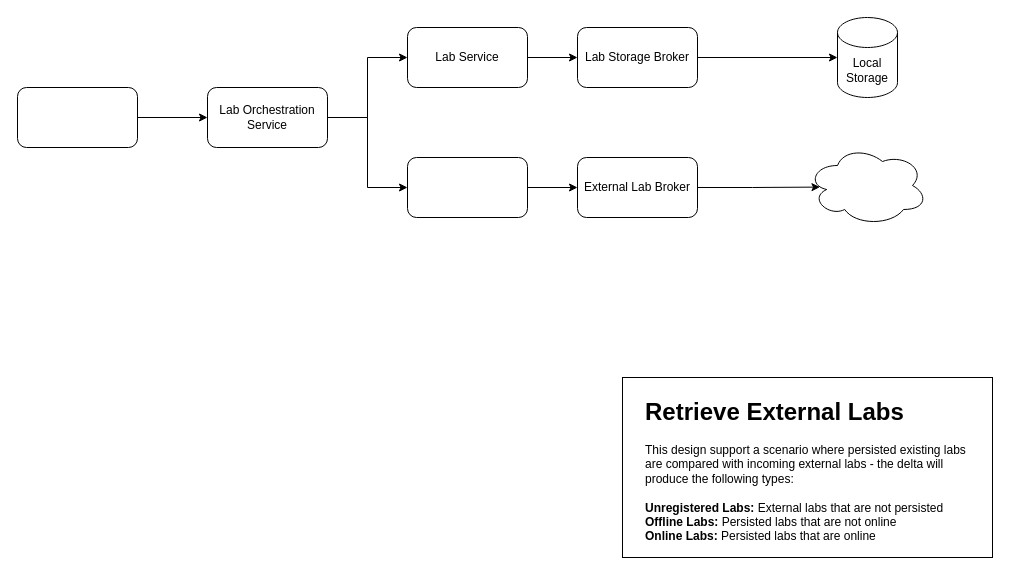
Some shapes in this 1010 by 575 pixel diagram are drawn without their labels. The box of each missing label's shape, as (x1, y1, x2, y2) in pixels:
External Lab Api: (806, 144, 928, 226)
External Lab Service: (406, 156, 528, 218)
Lab Controller: (16, 86, 138, 148)
